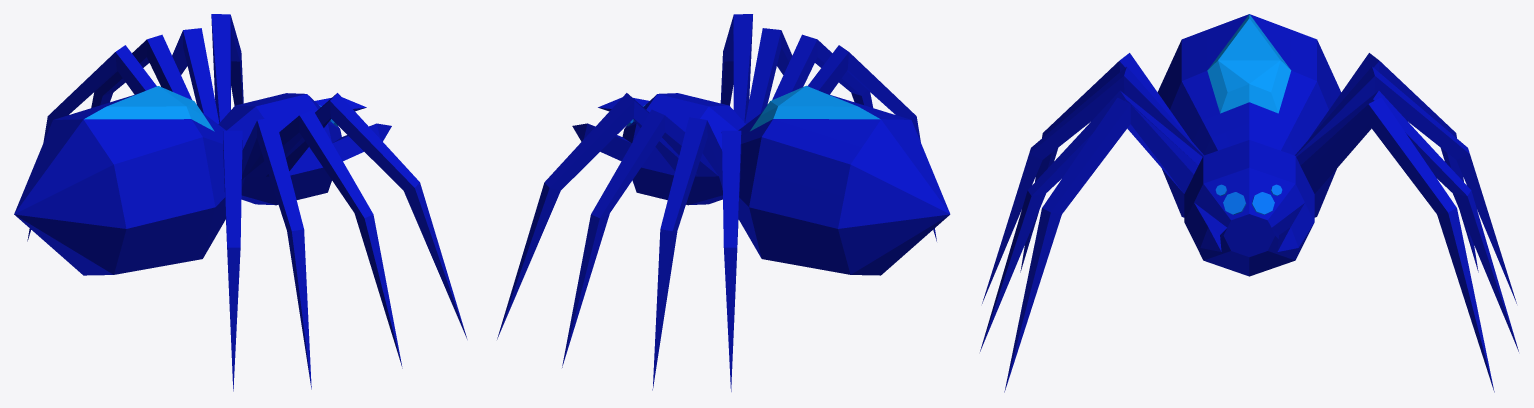
Rendered from water_spider.fbx.
3 views of the same model, side by side, from view 1: azimuth 30°, elevation 25°; view 2: azimuth 150°, elevation 25°; view 3: azimuth 270°, elevation 25° (orthographic). The views are drawn at different scales.
Visible parts, largest first — view 1: Plane.003; view 2: Plane.003; view 3: Plane.003, Circle.
Part boxes in pixels (bbox=[...]): Plane.003: bbox=[14, 14, 467, 391]; Plane.003: bbox=[497, 14, 950, 391]; Plane.003: bbox=[980, 14, 1518, 392]; Circle: bbox=[1223, 192, 1274, 214].
Bounding box in the file's own units: 490 × 291 × 564.
Materials: 2 (2 with a texture image).
